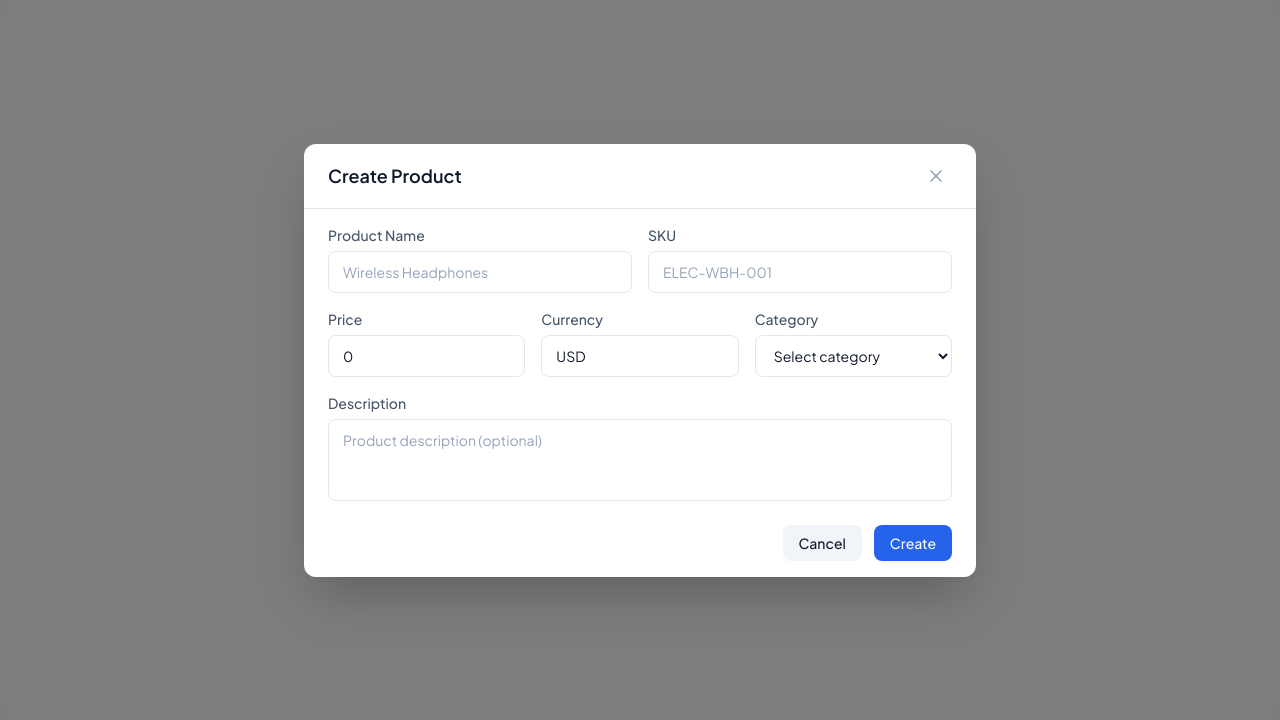
Test: CreateProductModal › shows "Product name is required" when name is empty and form is submitted
Click the button "Create" at (913, 542), box [874,524,952,560]
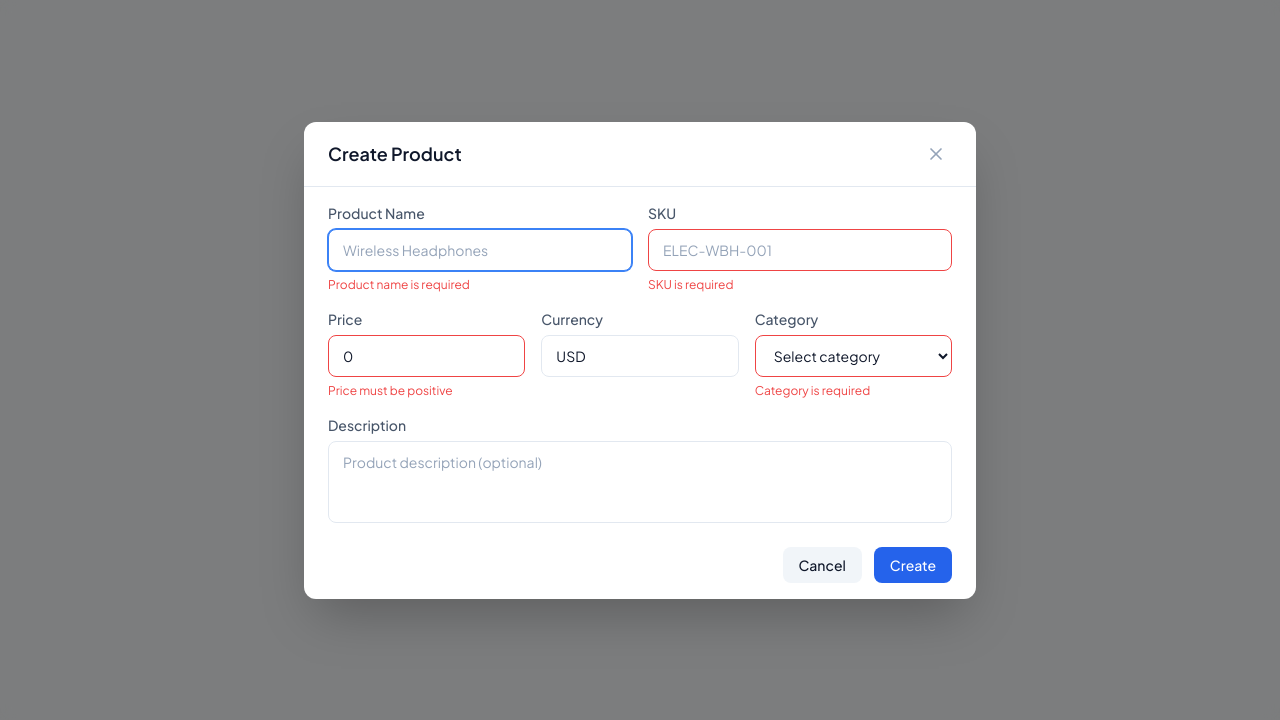
Expected: the text "Product name is required" is shown, [328,276,470,292]
